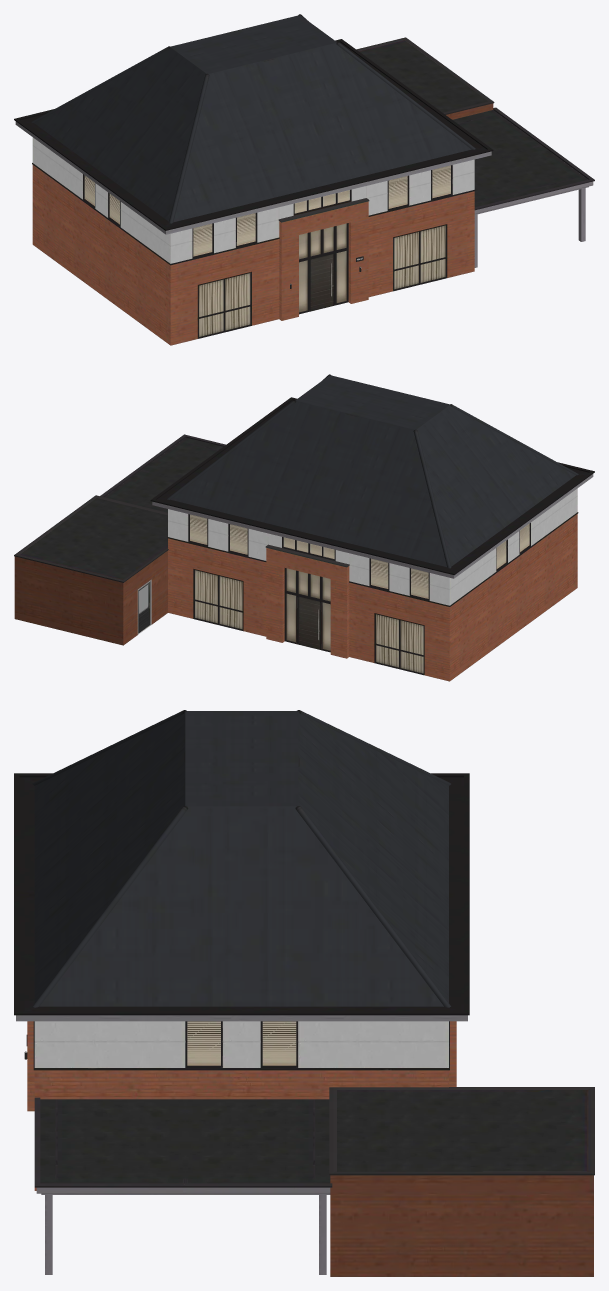
Rendered from house-villa.glb.
The picture shows the model from 3 angles, top to bottom: view 1: azimuth 30°, elevation 25°; view 2: azimuth 150°, elevation 25°; view 3: azimuth 270°, elevation 25°; orthographic projection. The views are drawn at different scales.
Visible parts, largest first — view 1: ROOF, HOUSE_BASE, AWNING, ROOF_GUTTER, GARAGE; view 2: ROOF, HOUSE_BASE, GARAGE, ROOF_GUTTER, AWNING; view 3: ROOF, GARAGE, HOUSE_BASE, AWNING, ROOF_GUTTER.
Part boxes in pixels (left/top/right/bottom): ROOF: left=31, top=14, right=475, bottom=223; HOUSE_BASE: left=32, top=137, right=475, bottom=345; AWNING: left=452, top=107, right=594, bottom=267; ROOF_GUTTER: left=14, top=39, right=493, bottom=234; GARAGE: left=356, top=37, right=494, bottom=119; ROOF: left=167, top=374, right=578, bottom=568; HOUSE_BASE: left=167, top=488, right=578, bottom=681; GARAGE: left=14, top=495, right=168, bottom=645; ROOF_GUTTER: left=150, top=397, right=594, bottom=578; AWNING: left=100, top=434, right=225, bottom=512; ROOF: left=32, top=710, right=450, bottom=1007; GARAGE: left=329, top=1087, right=594, bottom=1276; HOUSE_BASE: left=27, top=1021, right=456, bottom=1190; AWNING: left=34, top=1097, right=332, bottom=1274; ROOF_GUTTER: left=14, top=773, right=469, bottom=1021.
Size of the model in its own units: 20.1 by 9.41 by 15.43.
3 materials, 3 textured.
